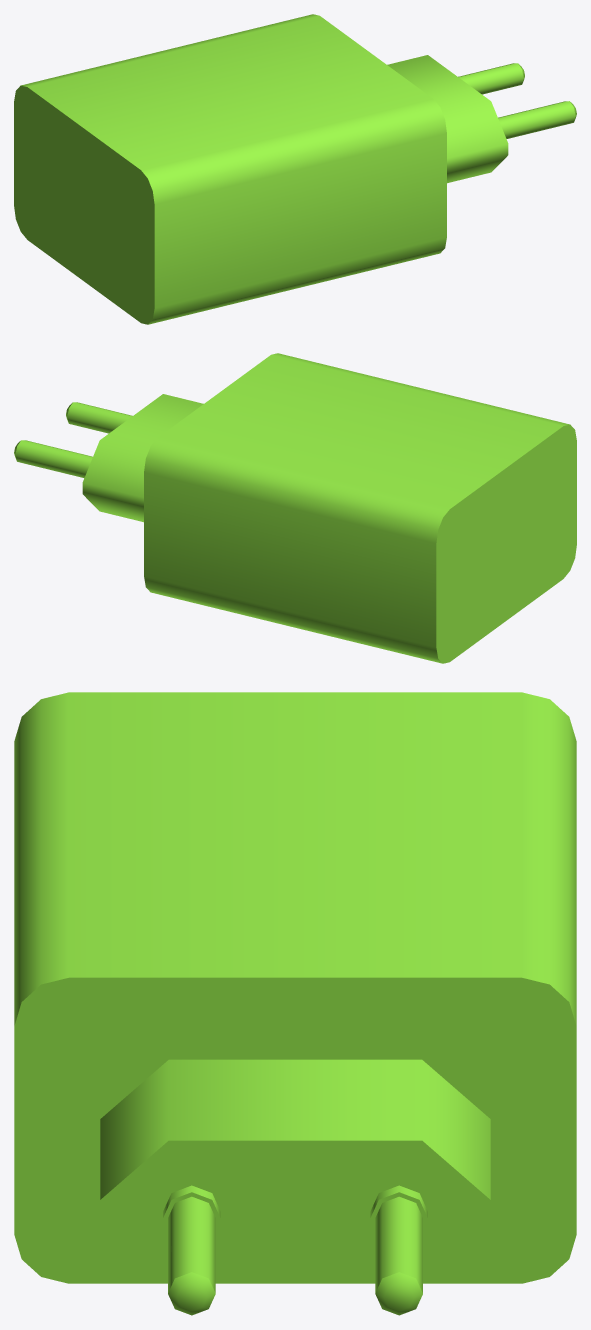
File: SM_P_Block_1.fbx
3 renders of one model, top to bottom at view 1: azimuth 30°, elevation 25°; view 2: azimuth 150°, elevation 25°; view 3: azimuth 270°, elevation 25°, orthographic. The views are drawn at different scales.
Visible parts, largest first — view 1: SM_P_Block_1; view 2: SM_P_Block_1; view 3: SM_P_Block_1.
Boxes of the visible parts, bbox=[...] form: SM_P_Block_1: bbox=[14, 14, 576, 324]; SM_P_Block_1: bbox=[14, 353, 576, 663]; SM_P_Block_1: bbox=[14, 692, 576, 1315].
Bounding box in the file's own units: 9.5 × 3 × 5.
